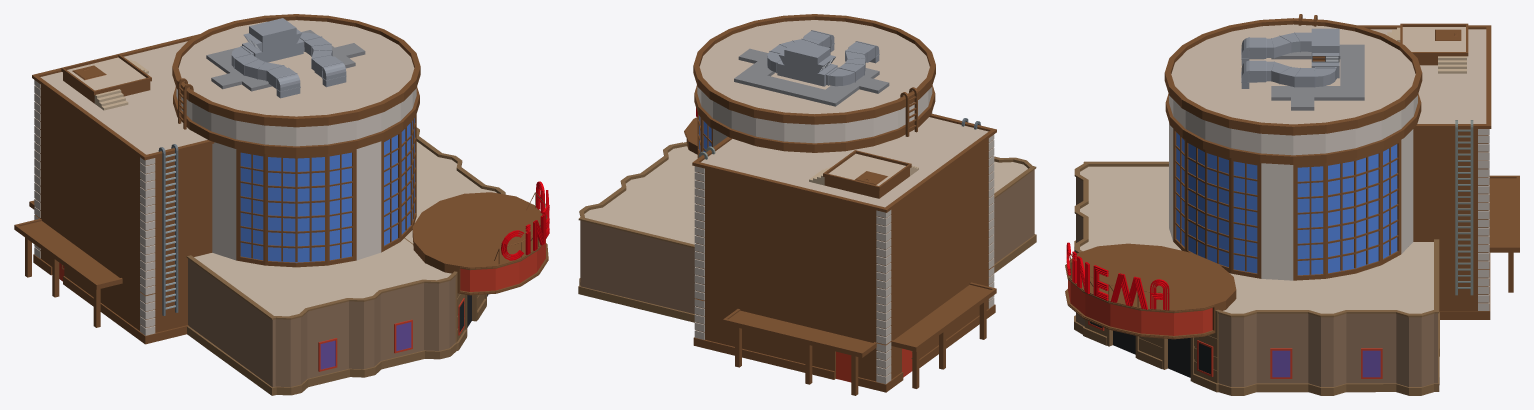
File: Cinema.gltf
3 views of the same model, side by side, from view 1: azimuth 30°, elevation 25°; view 2: azimuth 150°, elevation 25°; view 3: azimuth 270°, elevation 25° (orthographic). The views are drawn at different scales.
Parts seen in each view (by area): view 1: Cinema; view 2: Cinema; view 3: Cinema.
Boxes of the visible parts, x1=… form: Cinema: x1=14, y1=14, x2=549, y2=395; Cinema: x1=578, y1=14, x2=1036, y2=395; Cinema: x1=1065, y1=14, x2=1519, y2=395.
Size of the model in its own units: 20.35 by 13.2 by 20.61.
